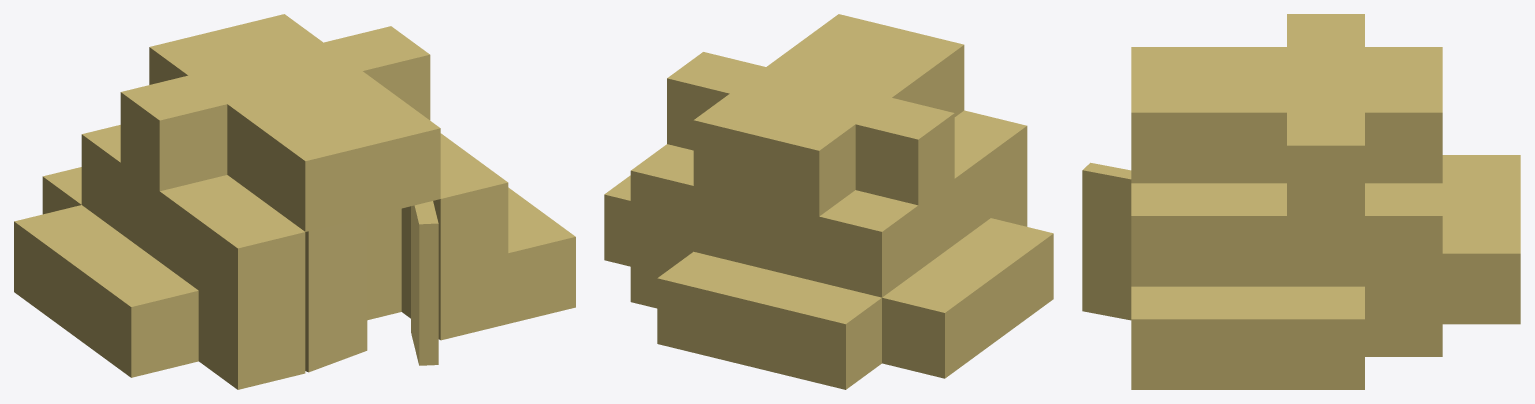
The model's file is MineShaft.fbx.
3 renders of one model, left to right at view 1: azimuth 30°, elevation 25°; view 2: azimuth 150°, elevation 25°; view 3: azimuth 270°, elevation 25°, orthographic. The views are drawn at different scales.
Visible parts, largest first — view 1: MineShaft, Door, Door1; view 2: MineShaft; view 3: MineShaft, Door1.
Part boxes in pixels (bbox=[...]): MineShaft: bbox=[14, 14, 575, 389]; Door: bbox=[305, 217, 367, 372]; Door1: bbox=[411, 201, 438, 365]; MineShaft: bbox=[604, 14, 1053, 389]; MineShaft: bbox=[1131, 14, 1520, 389]; Door1: bbox=[1082, 162, 1131, 320].
Bounding box in the file's own units: 600 × 300 × 563.
